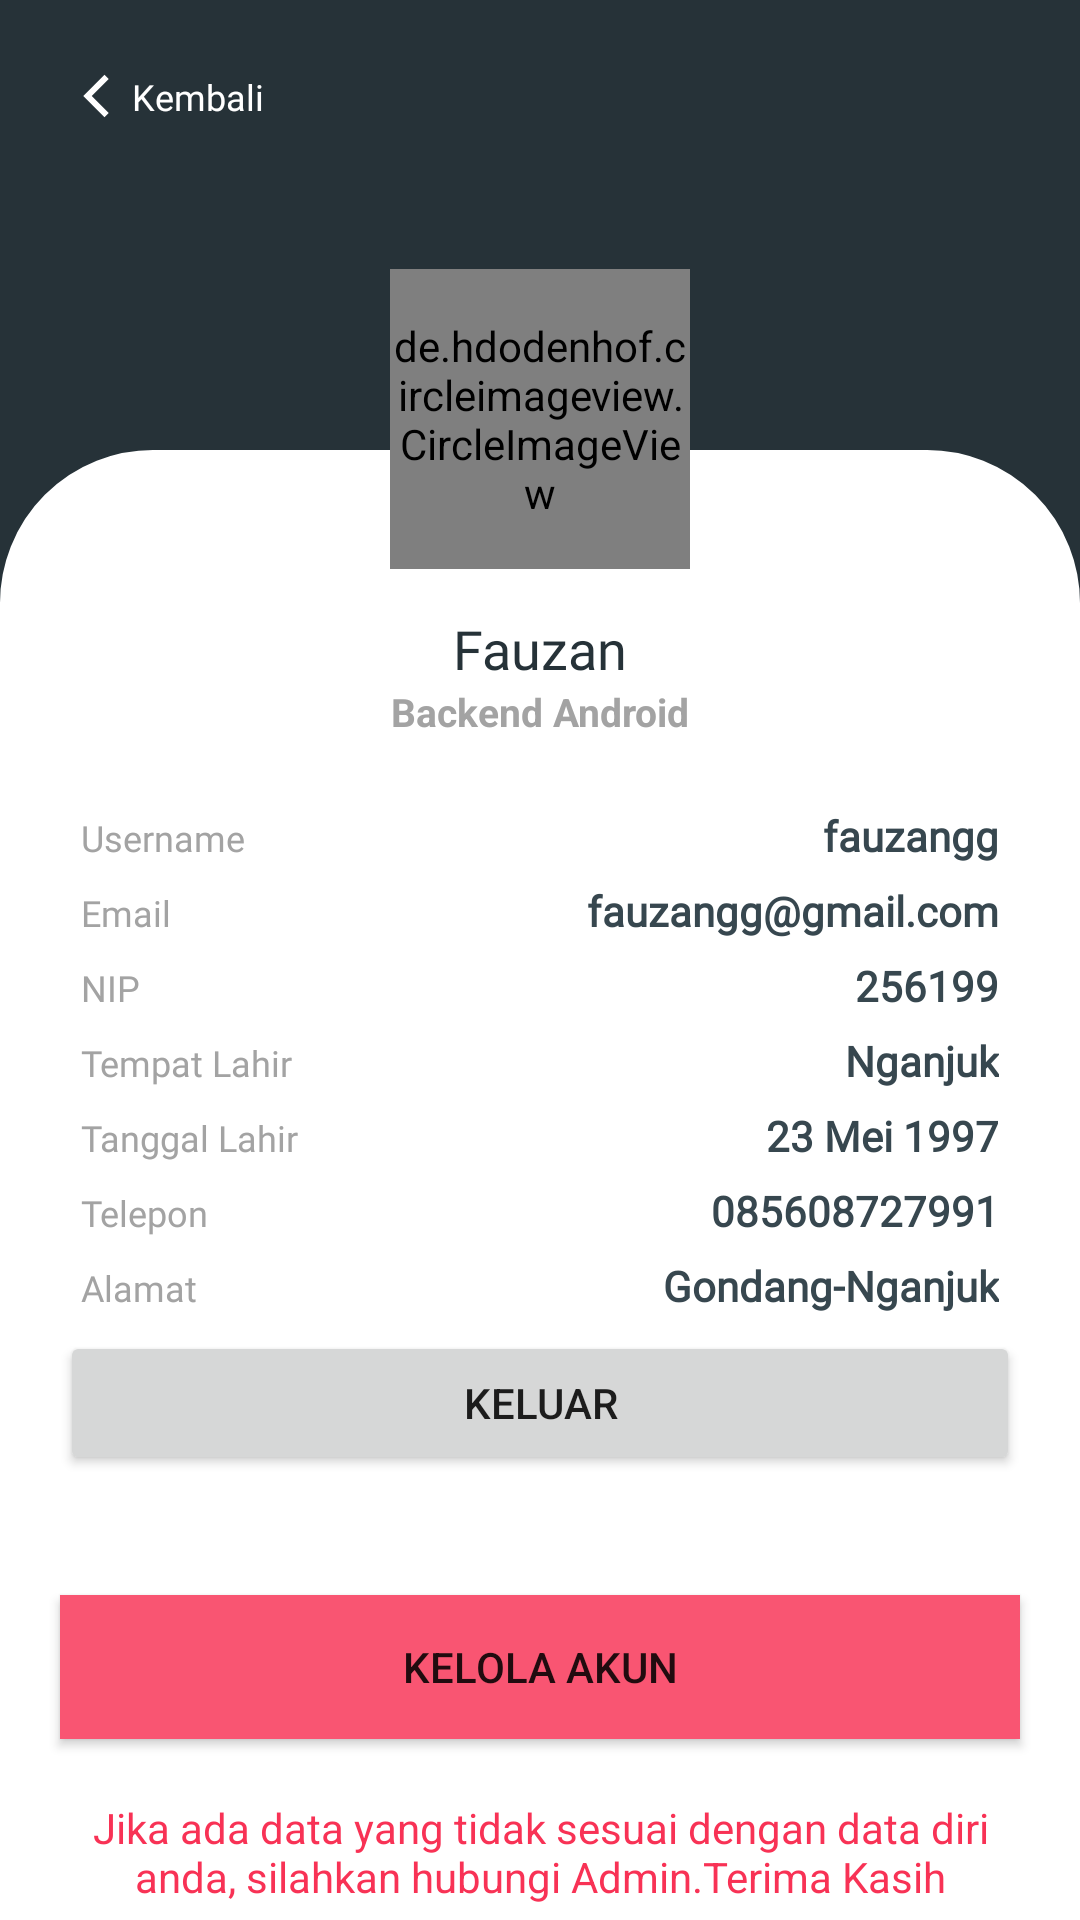

Point at icon controls on the screen. Image size 1080 x 1920, points as point (x, y).
chevron left: point (96, 96)
